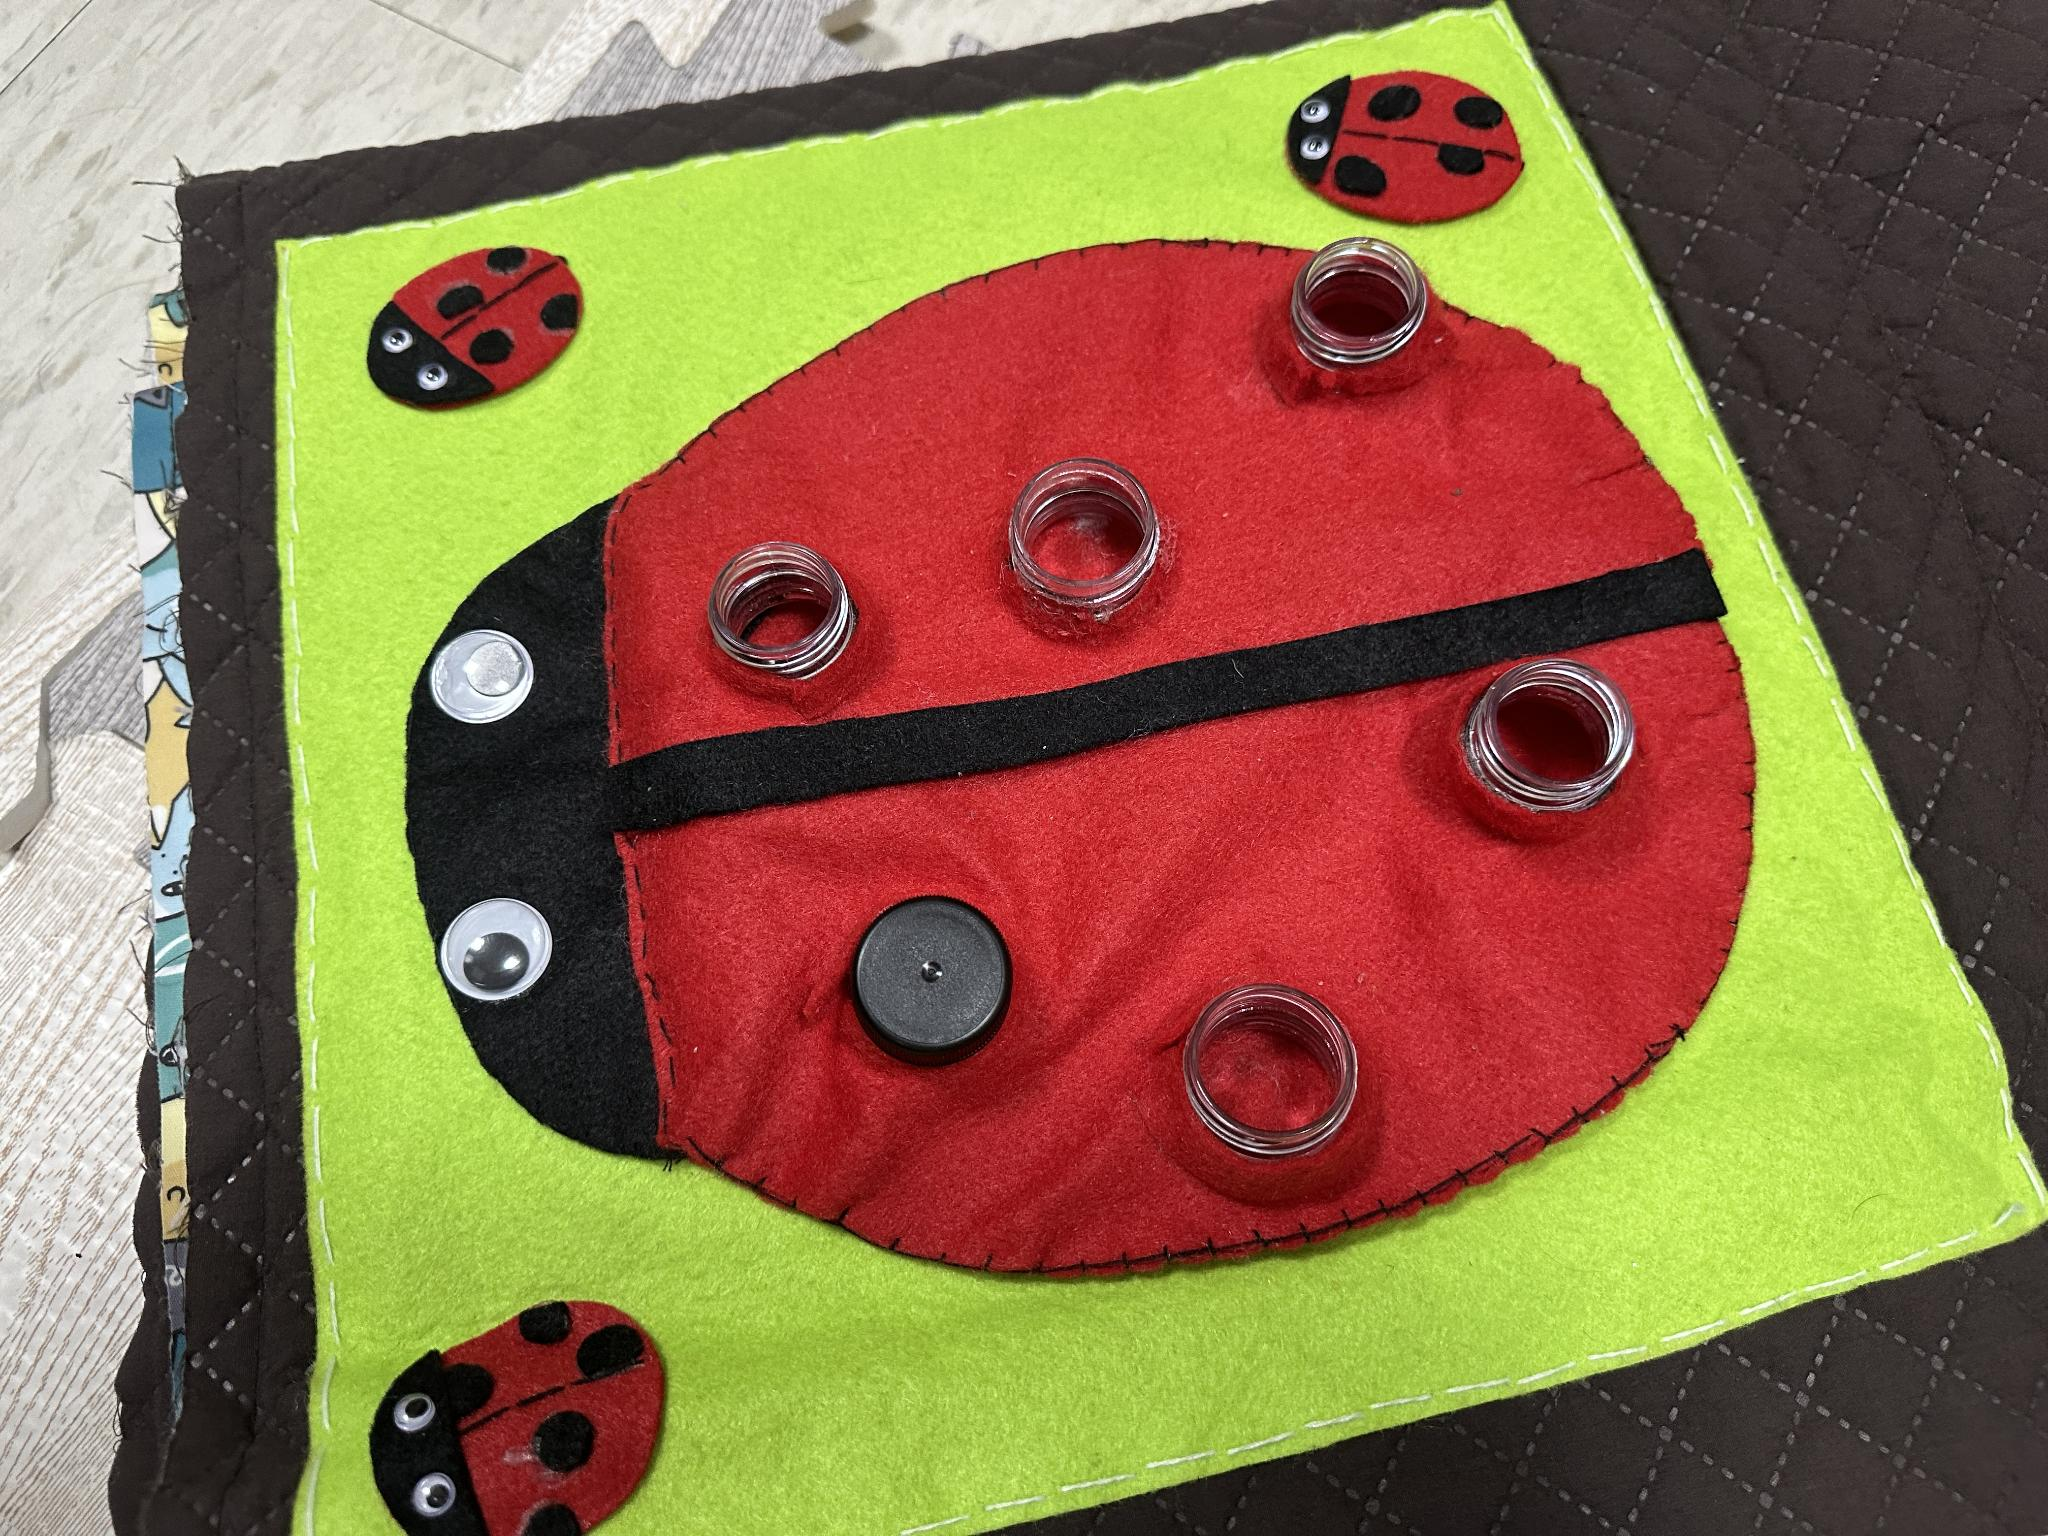cap_ok: (780, 847, 1071, 1097)
